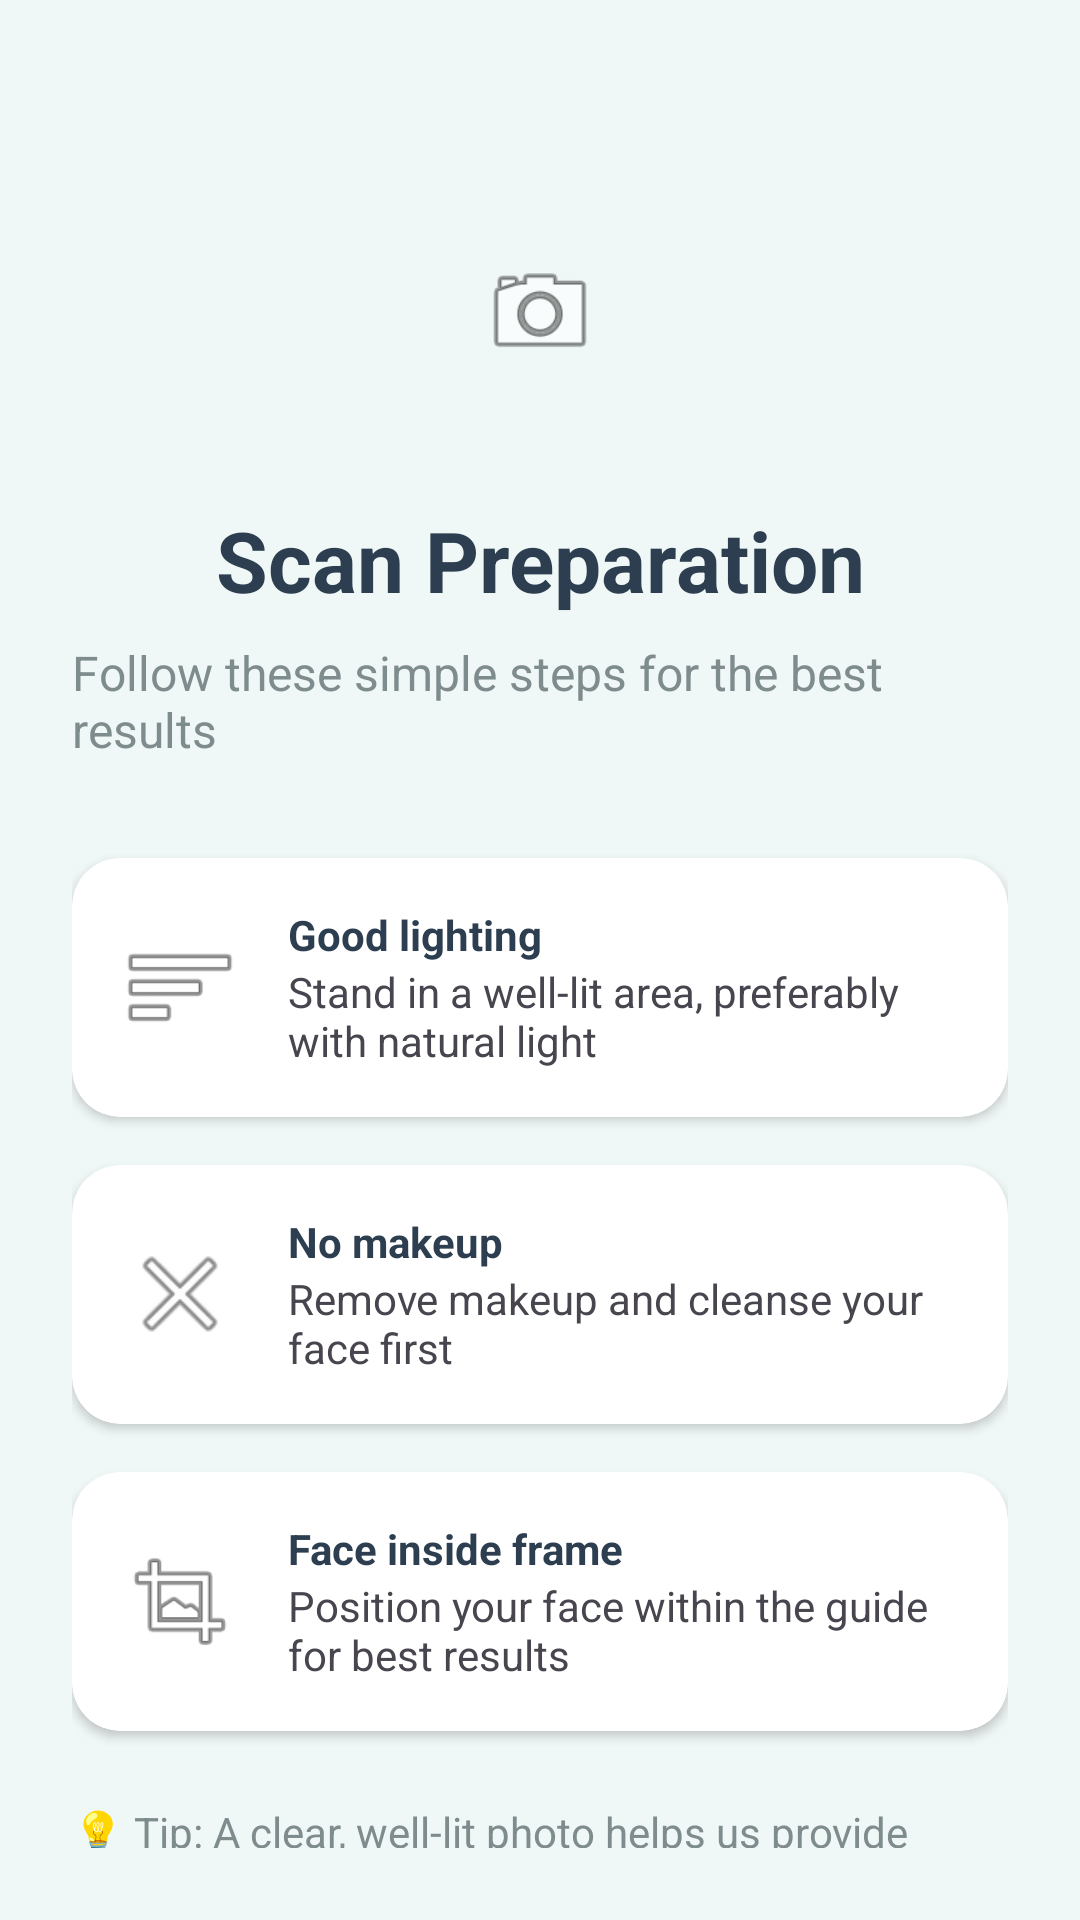

Where icons sit on this 1080×1920 app screen, as (x1, y1, x2, y2):
camera: (493, 273, 587, 347)
close clear cancel: (142, 1256, 218, 1332)
crop: (134, 1558, 226, 1645)
sort by size: (128, 954, 232, 1021)
